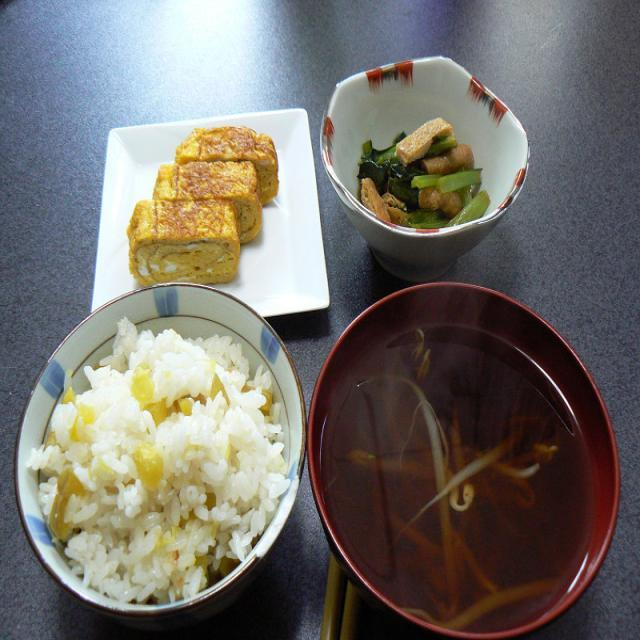Rice: (23, 303, 290, 621)
